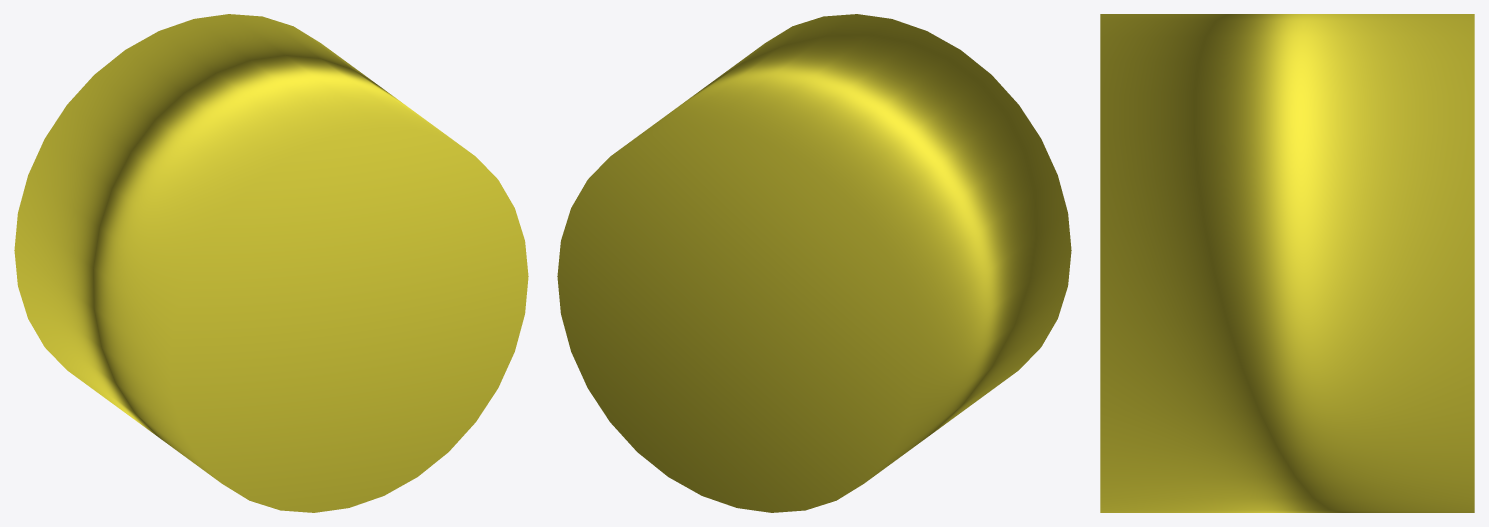
The model's file is GT3_Yoke_Button_Pit_Limiter.glb.
3 renders of one model, left to right at view 1: azimuth 30°, elevation 25°; view 2: azimuth 150°, elevation 25°; view 3: azimuth 270°, elevation 25°, orthographic. The views are drawn at different scales.
Visible parts, largest first — view 1: GT3_Yoke_Button_Pit_Limiter; view 2: GT3_Yoke_Button_Pit_Limiter; view 3: GT3_Yoke_Button_Pit_Limiter.
Part boxes in pixels (box(x1,y1,x2,y2)): GT3_Yoke_Button_Pit_Limiter: box(14, 14, 528, 512); GT3_Yoke_Button_Pit_Limiter: box(557, 14, 1071, 512); GT3_Yoke_Button_Pit_Limiter: box(1100, 14, 1474, 512).
Bounding box in the file's own units: 0.016 × 0.016 × 0.012.
